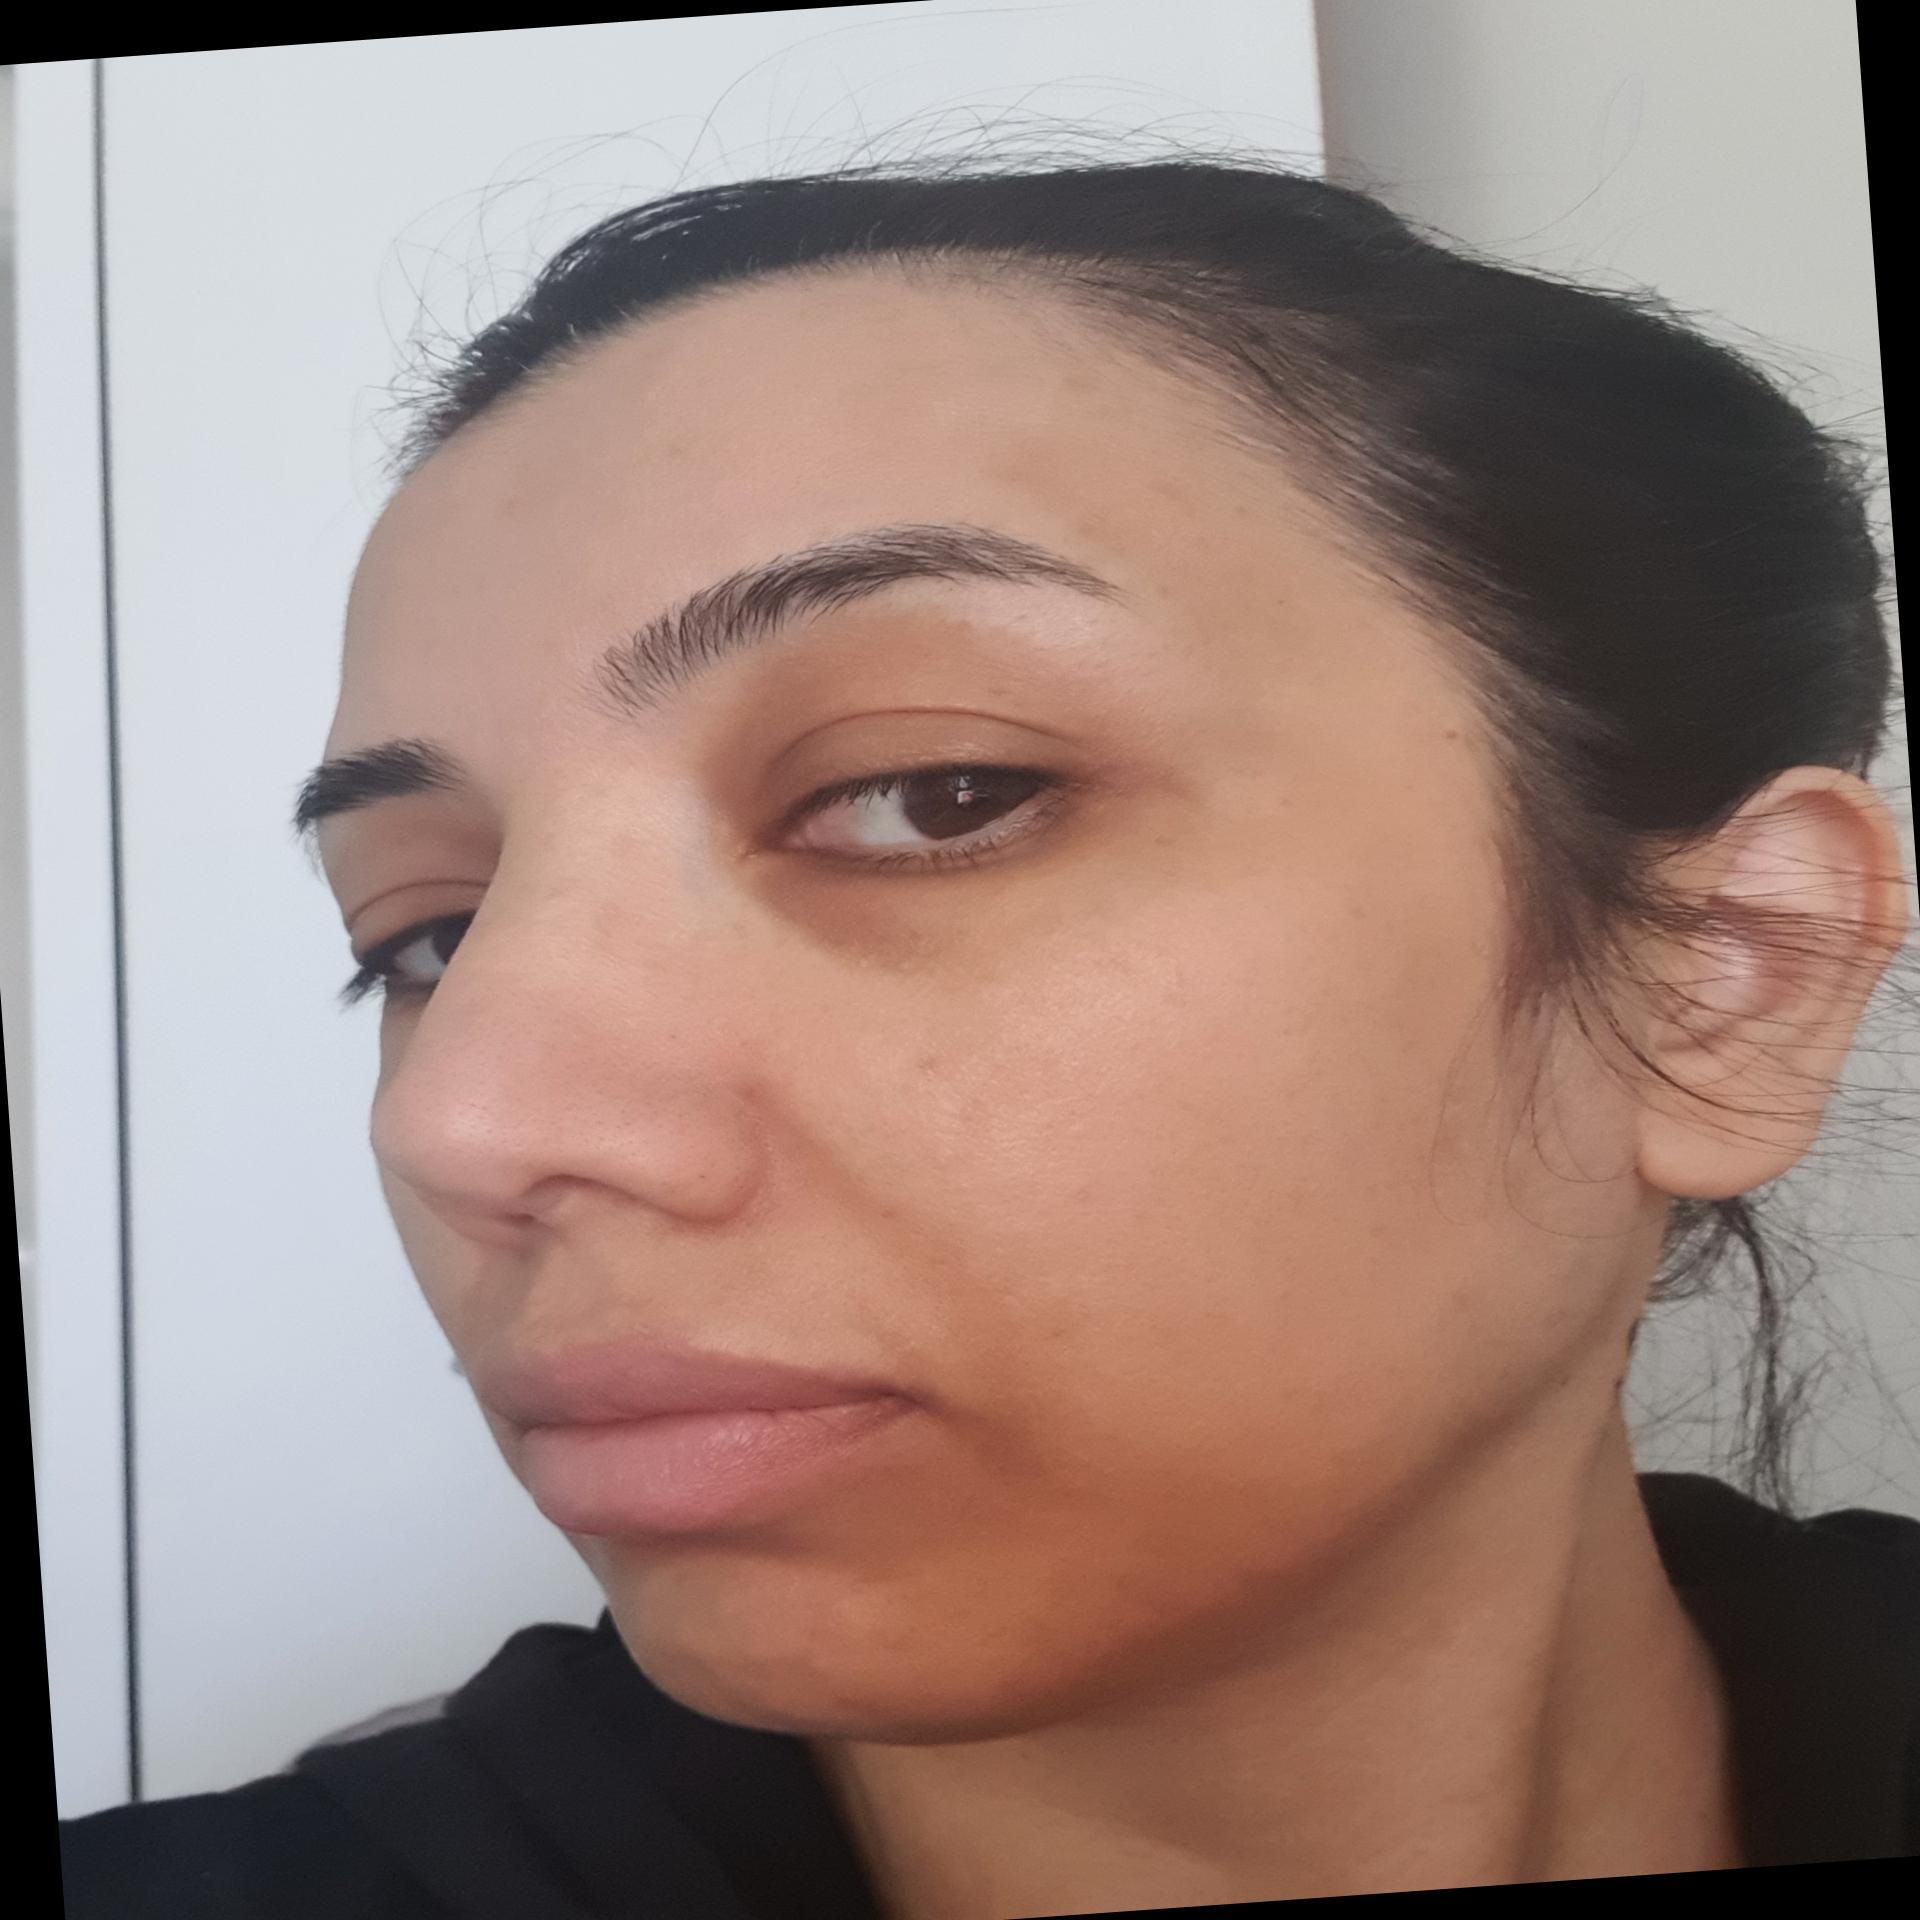Acne: (1215, 1558, 1291, 1612), (825, 1683, 898, 1734), (1127, 473, 1187, 519), (659, 434, 712, 473), (874, 1618, 921, 1656)
